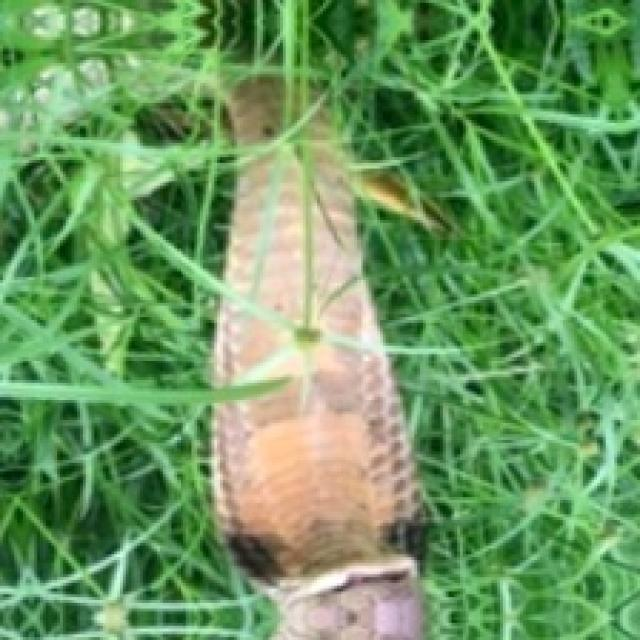king cobra: (214, 77, 420, 637)
